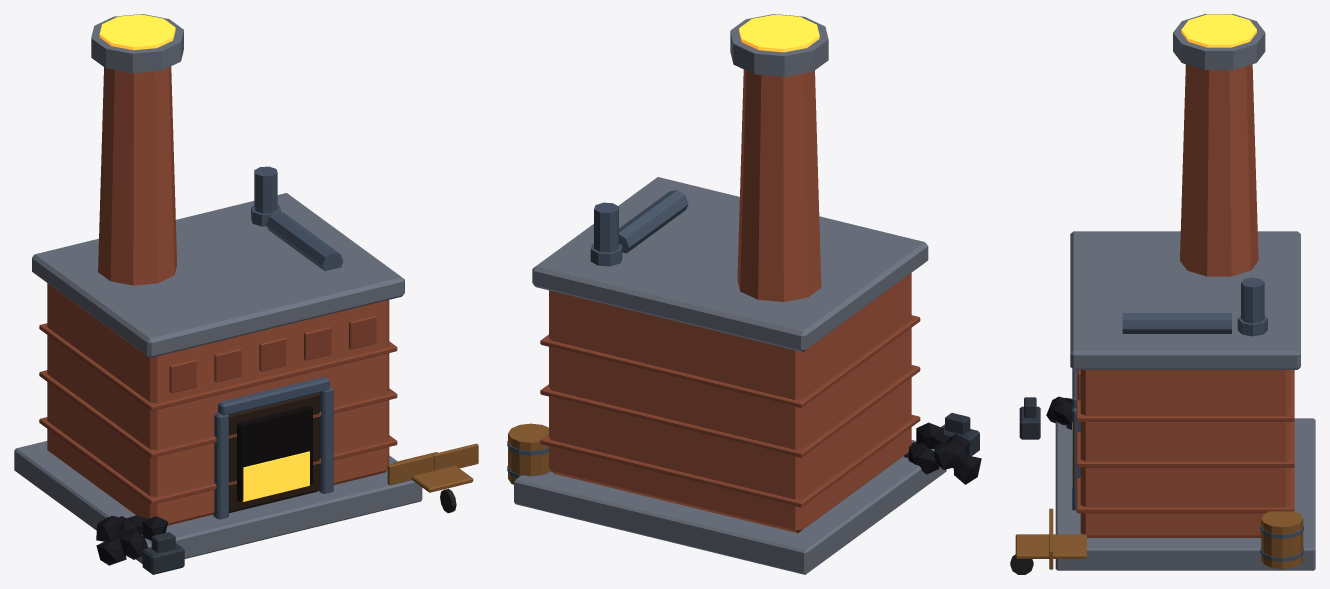
File: furnace.glb
The picture shows the model from 3 angles, left to right: view 1: azimuth 30°, elevation 25°; view 2: azimuth 150°, elevation 25°; view 3: azimuth 270°, elevation 25°; orthographic projection. The views are drawn at different scales.
Visible parts, largest first — view 1: g_m_a5543a, g_m_6b7280, g_m_8b4630, g_m_475569, g_m_fb923c_e, g_m_0c0a09, g_m_2a1d17, g_m_8a5a2b, g_m_14151b, g_m_2f3640; view 2: g_m_a5543a, g_m_6b7280, g_m_8b4630, g_m_475569, g_m_14151b, g_m_fb923c_e, g_m_8a5a2b, g_m_2f3640; view 3: g_m_a5543a, g_m_6b7280, g_m_8b4630, g_m_475569, g_m_8a5a2b, g_m_fb923c_e, g_m_2f3640, g_m_14151b.
Part boxes in pixels (x1=…): g_m_a5543a: x1=47, y1=66, x2=389, y2=525; g_m_6b7280: x1=14, y1=14, x2=422, y2=563; g_m_8b4630: x1=39, y1=315, x2=397, y2=504; g_m_475569: x1=213, y1=166, x2=343, y2=519; g_m_fb923c_e: x1=99, y1=14, x2=309, y2=501; g_m_0c0a09: x1=237, y1=405, x2=312, y2=501; g_m_2a1d17: x1=229, y1=392, x2=319, y2=513; g_m_8a5a2b: x1=387, y1=443, x2=478, y2=492; g_m_14151b: x1=96, y1=515, x2=168, y2=565; g_m_2f3640: x1=142, y1=532, x2=184, y2=574; g_m_a5543a: x1=549, y1=69, x2=911, y2=533; g_m_6b7280: x1=514, y1=14, x2=946, y2=574; g_m_8b4630: x1=540, y1=315, x2=920, y2=507; g_m_475569: x1=507, y1=190, x2=688, y2=478; g_m_14151b: x1=904, y1=422, x2=981, y2=484; g_m_fb923c_e: x1=739, y1=14, x2=819, y2=52; g_m_8a5a2b: x1=508, y1=423, x2=550, y2=484; g_m_2f3640: x1=941, y1=413, x2=979, y2=456; g_m_a5543a: x1=1080, y1=64, x2=1290, y2=537; g_m_6b7280: x1=1055, y1=14, x2=1315, y2=570; g_m_8b4630: x1=1076, y1=370, x2=1294, y2=513; g_m_475569: x1=1072, y1=277, x2=1303, y2=561; g_m_8a5a2b: x1=1015, y1=508, x2=1303, y2=569; g_m_fb923c_e: x1=1072, y1=14, x2=1256, y2=486; g_m_2f3640: x1=1019, y1=397, x2=1040, y2=439; g_m_14151b: x1=1046, y1=396, x2=1072, y2=429.
Bounding box in the file's own units: 9.8 × 11.73 × 7.28.
